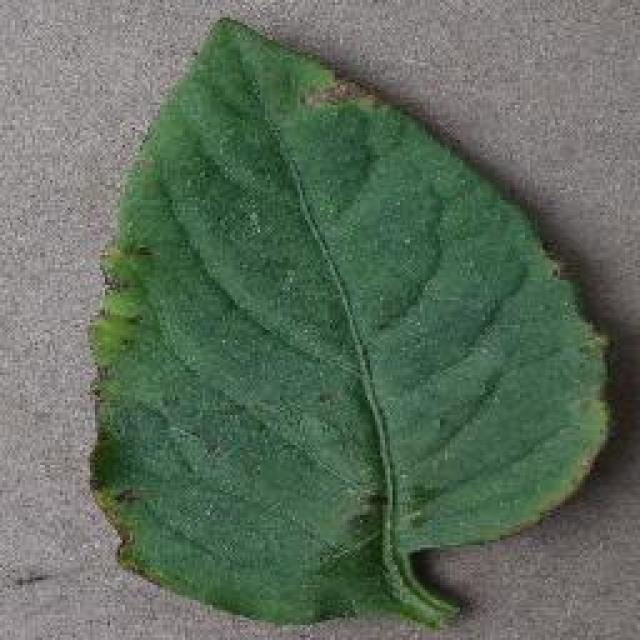Tomato bacterial spot leaf: (93, 21, 625, 621)
